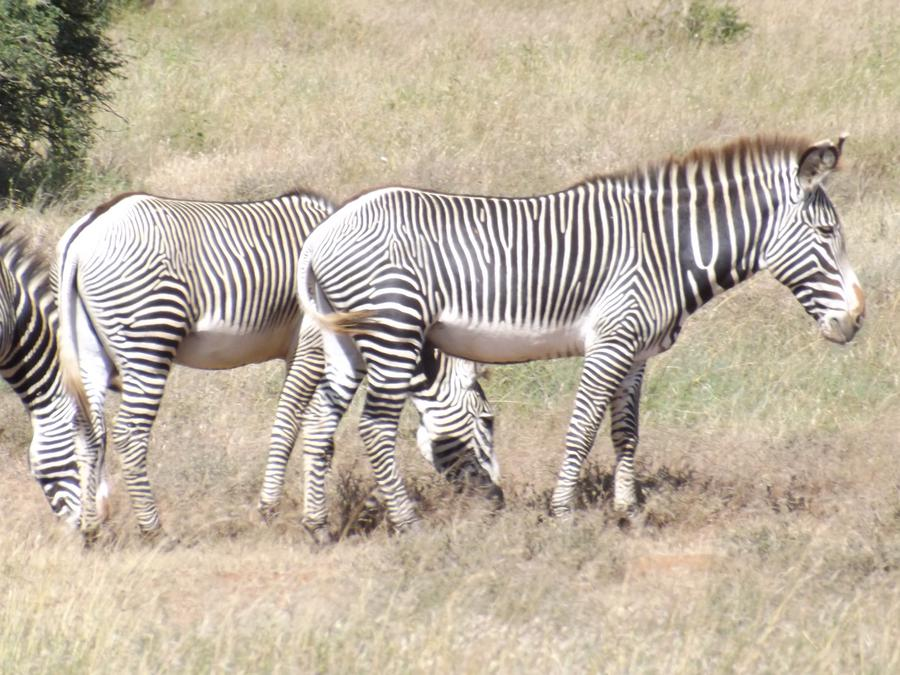zebra_grevys: (303, 164, 665, 360), (68, 173, 286, 348)
